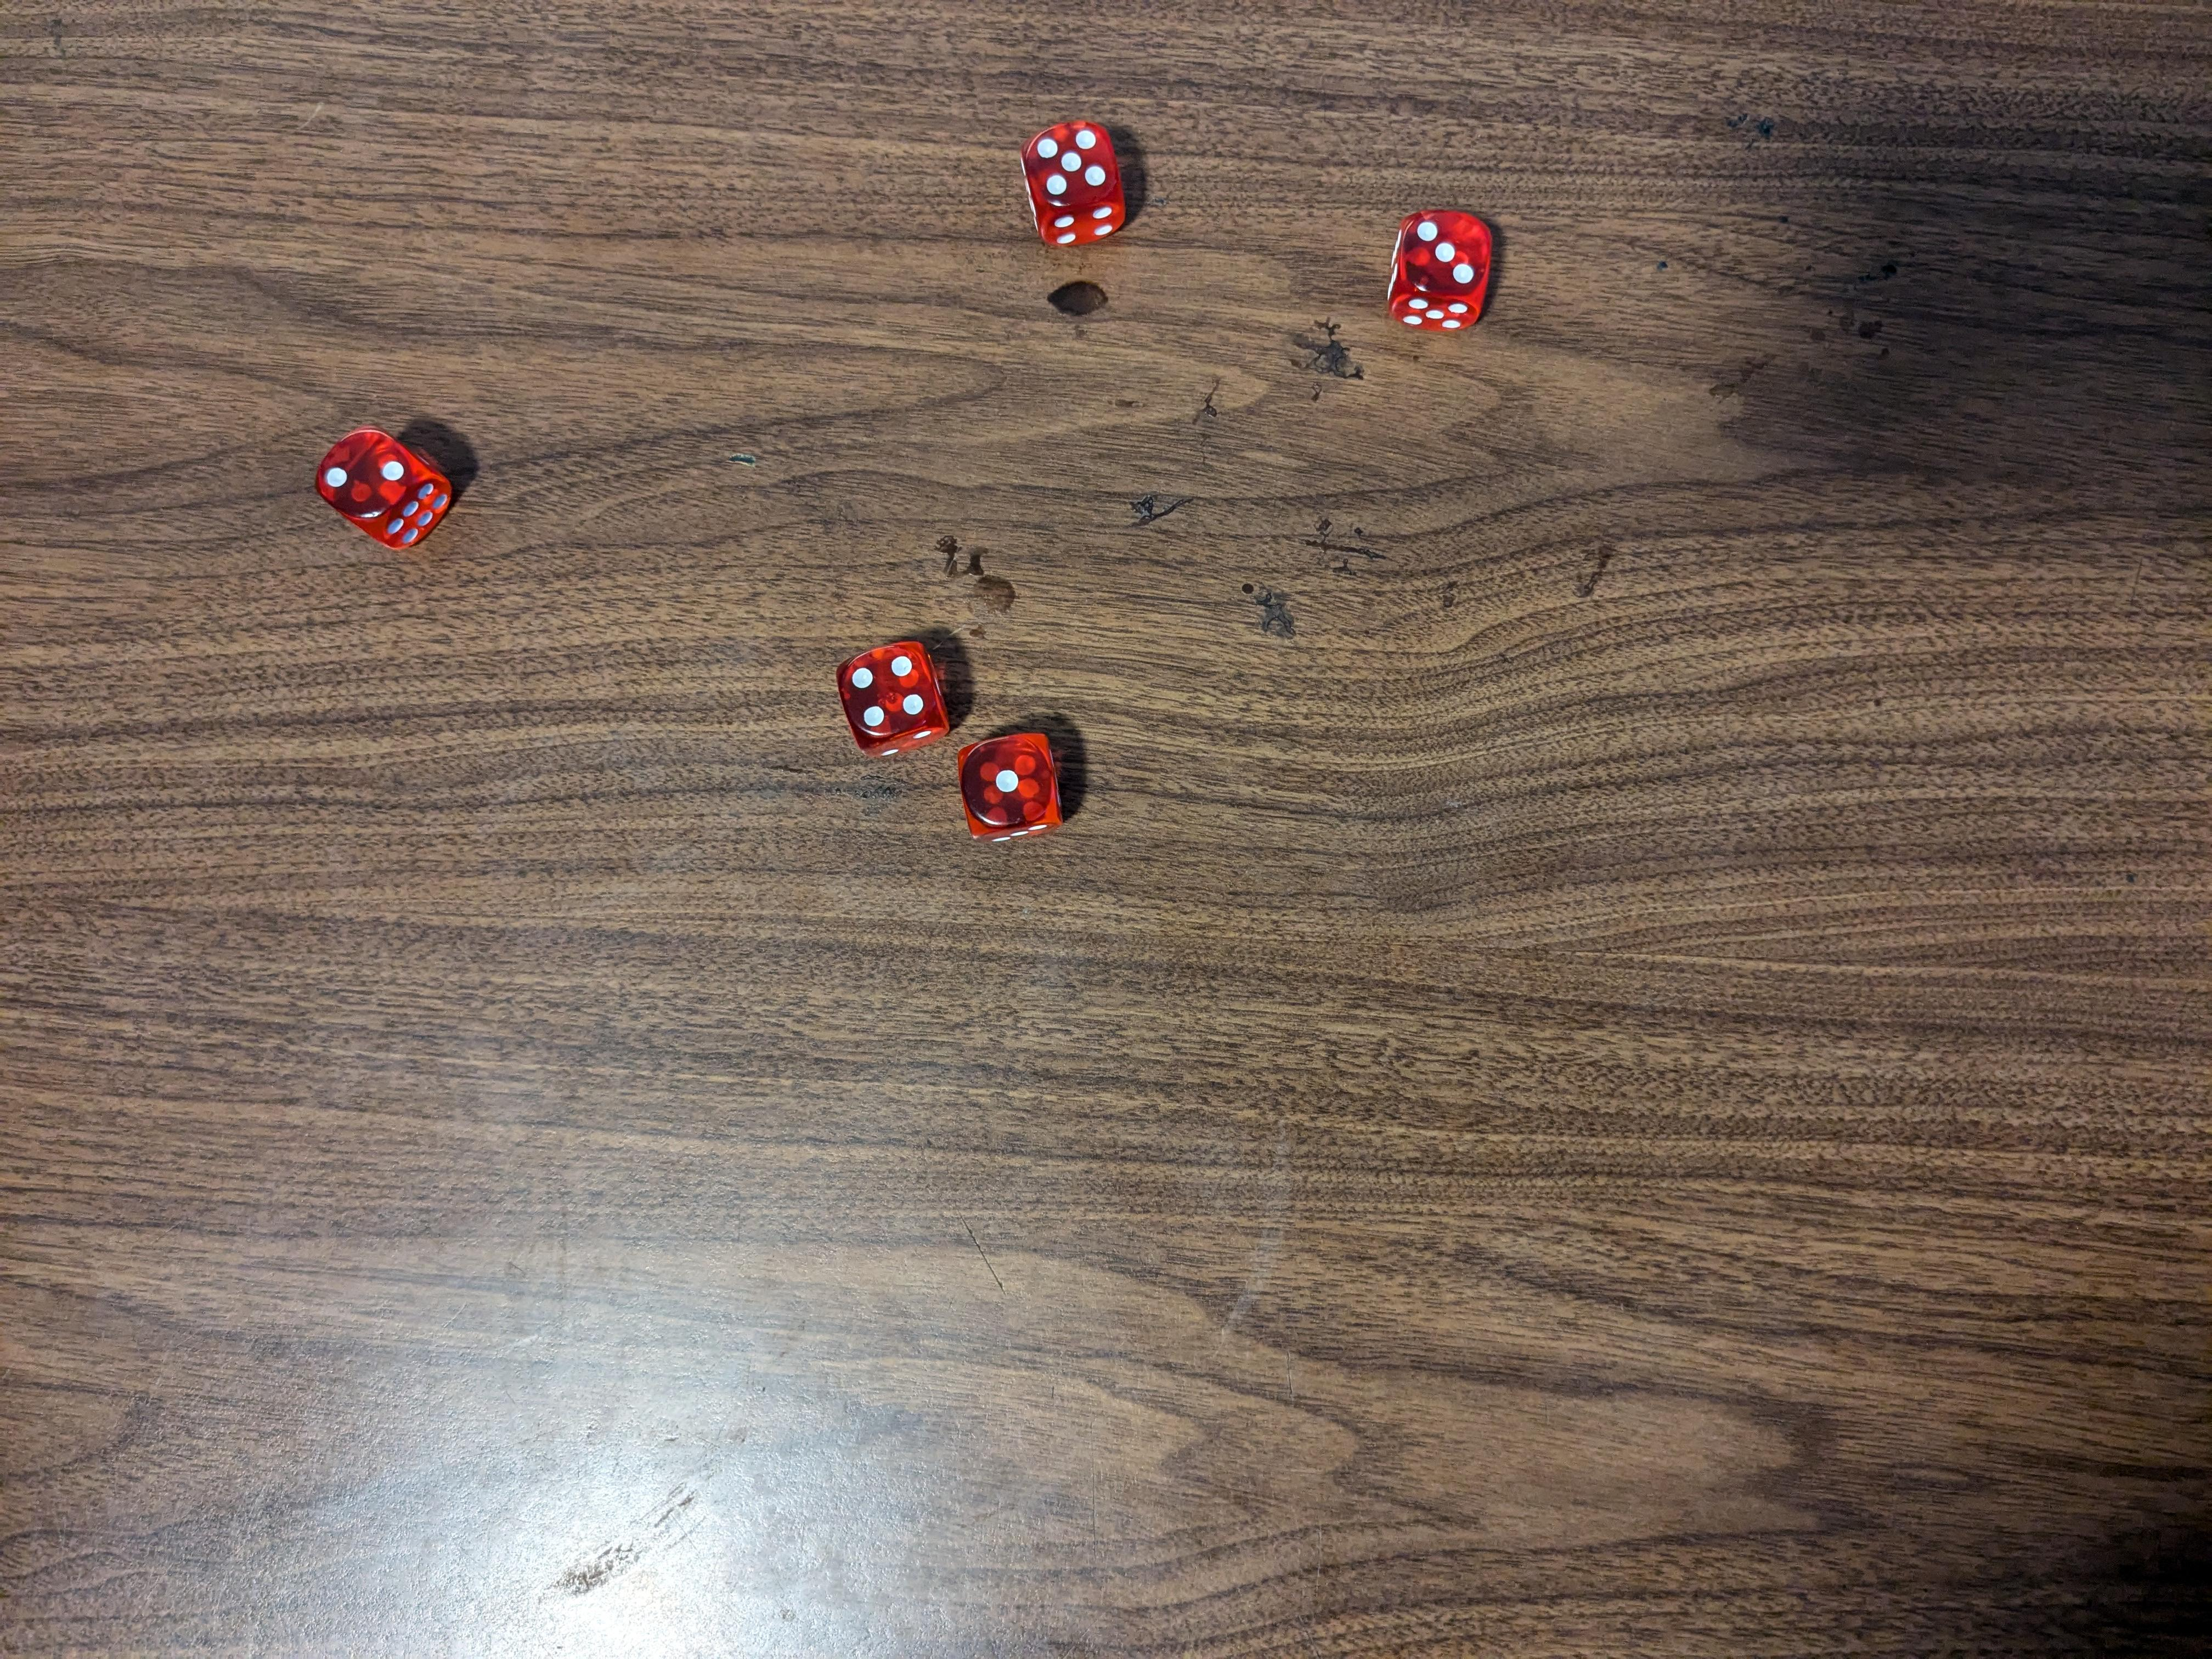five: (1015, 112, 1127, 242)
four: (843, 638, 951, 753)
one: (954, 728, 1068, 852)
three: (1386, 211, 1493, 331)
two: (314, 425, 456, 549)
